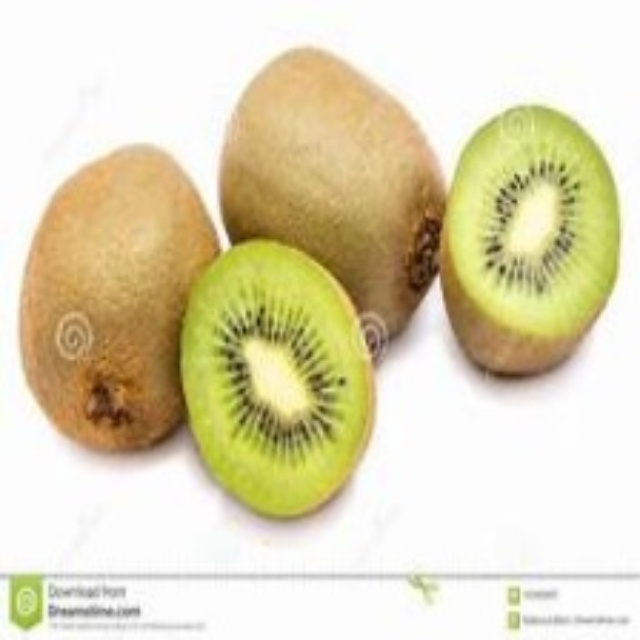kiwi: (220, 53, 441, 351), (23, 151, 210, 449), (180, 246, 370, 516), (445, 109, 620, 380)
